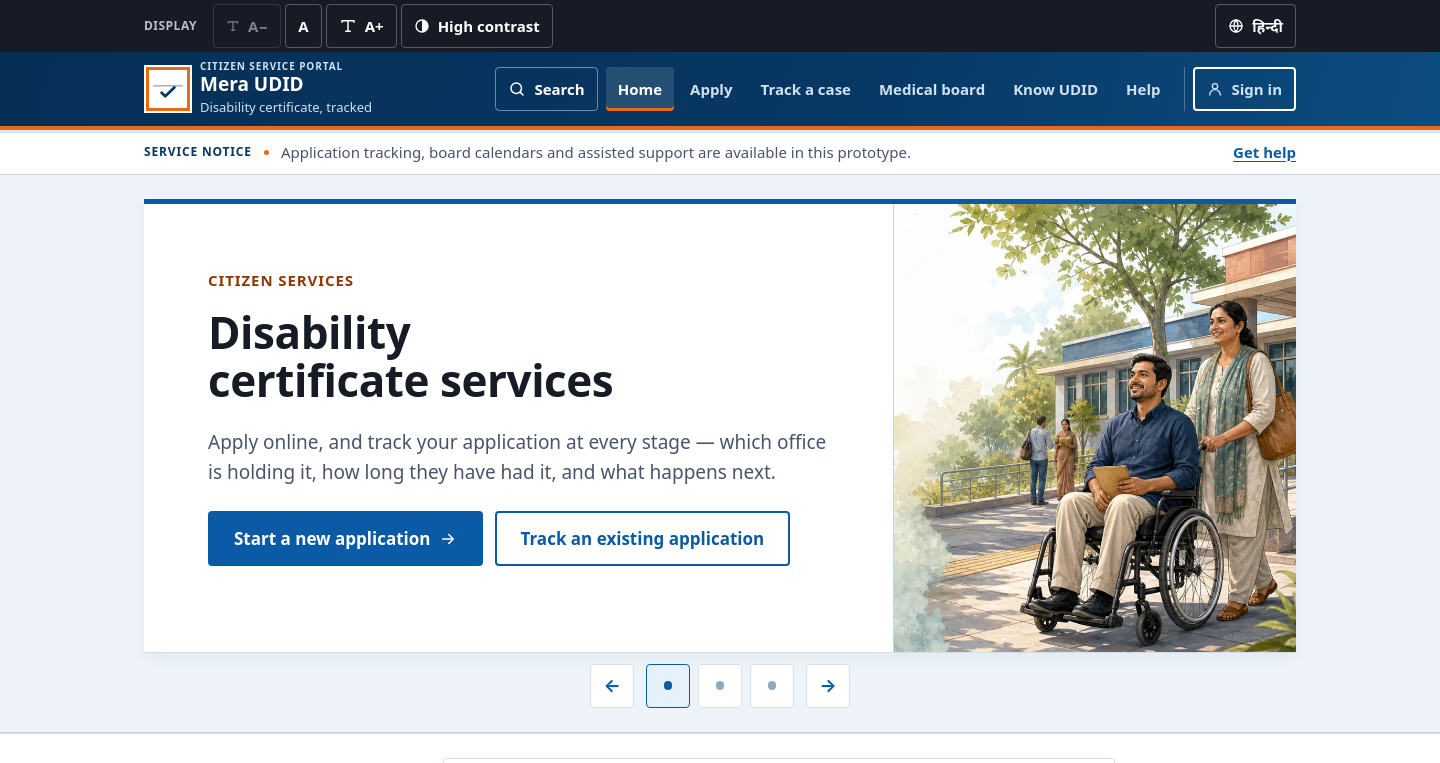
the accessibility toolkit › grows the text and stops at the largest size
This screenshot has width=1440, height=763.
Click the button named "increase text size" at (361, 26), box [326, 4, 397, 48]
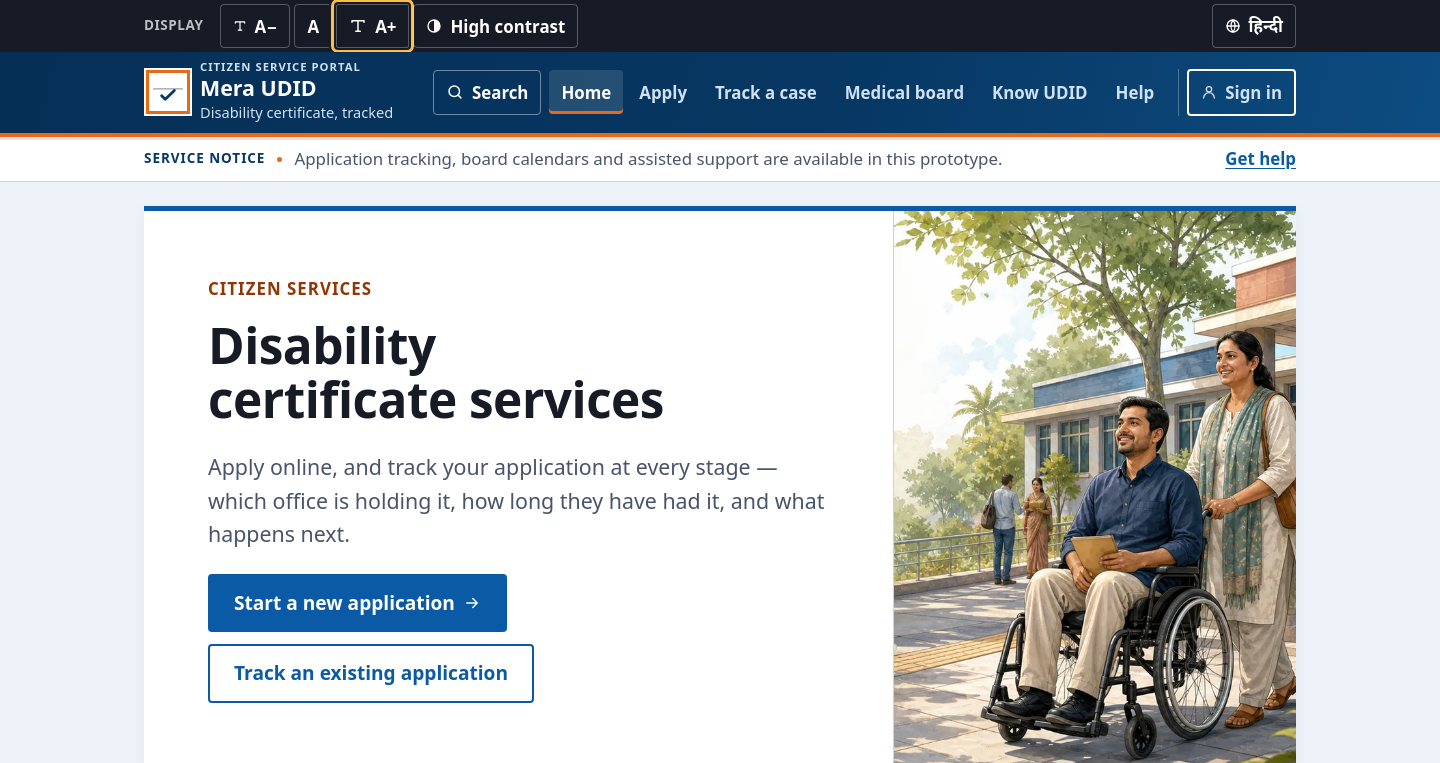
Click the button named "increase text size" at (373, 26), box [336, 4, 409, 48]
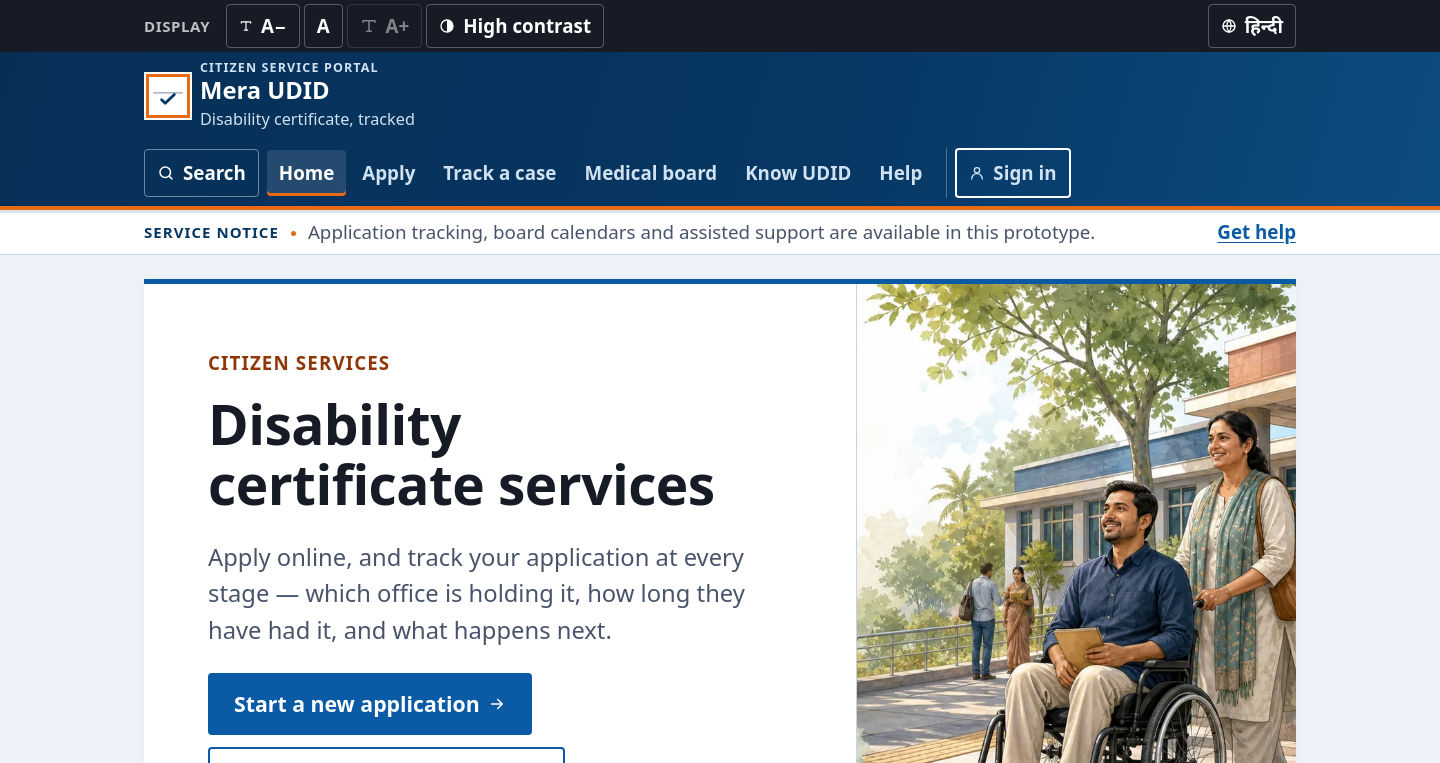
Now the button named "increase text size" is disabled, box [347, 4, 422, 48]
